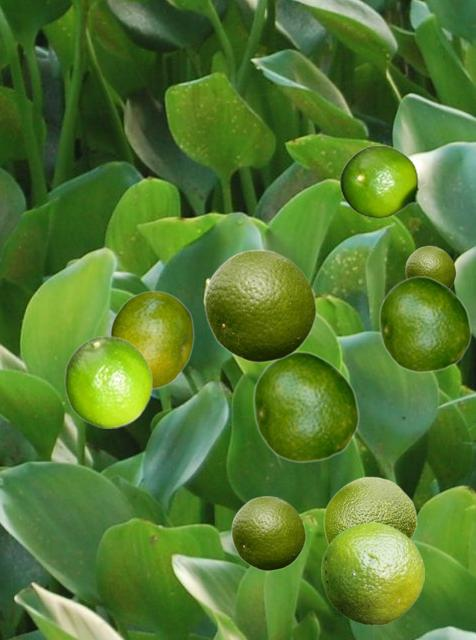calamansi: (204, 248, 316, 362), (252, 350, 359, 462), (321, 522, 423, 624), (378, 275, 471, 372), (109, 290, 193, 388), (64, 335, 152, 427), (339, 145, 427, 218), (323, 476, 416, 544), (231, 495, 305, 570), (405, 245, 455, 288)
